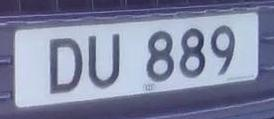8: (142, 23, 179, 90), (175, 19, 211, 86)
9: (206, 19, 241, 80)
D: (42, 33, 87, 99)
U: (84, 30, 126, 95)
